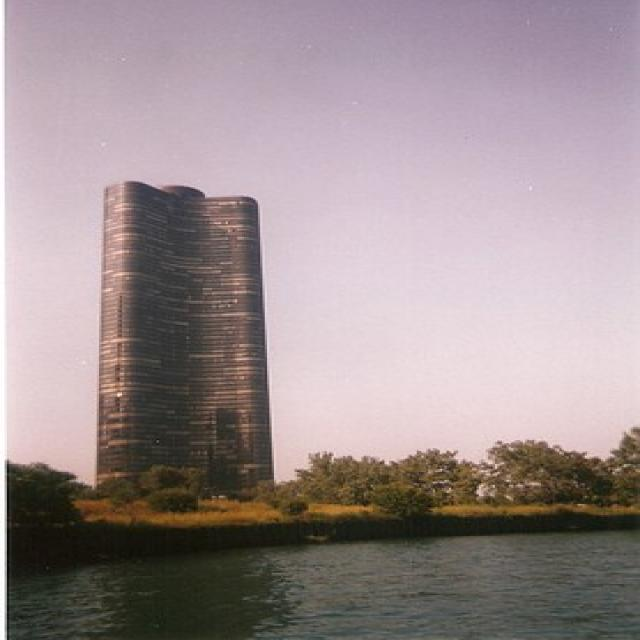building: (87, 176, 281, 522)
